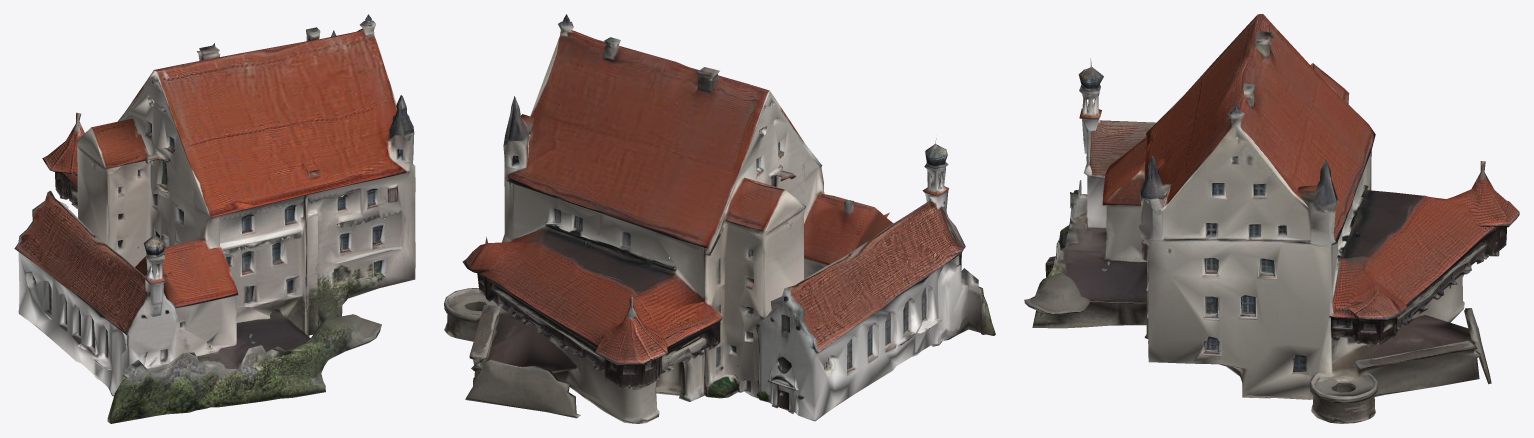
File: fairytale-castle.glb
3 renders of one model, left to right at view 1: azimuth 30°, elevation 25°; view 2: azimuth 150°, elevation 25°; view 3: azimuth 270°, elevation 25°, orthographic. The views are drawn at different scales.
Parts seen in each view (by area): view 1: tripo_node_6df8ebc9-4445-48fb-8ed5-7a68136735d4; view 2: tripo_node_6df8ebc9-4445-48fb-8ed5-7a68136735d4; view 3: tripo_node_6df8ebc9-4445-48fb-8ed5-7a68136735d4.
Part boxes in pixels (bbox=[...]): tripo_node_6df8ebc9-4445-48fb-8ed5-7a68136735d4: bbox=[14, 14, 415, 423]; tripo_node_6df8ebc9-4445-48fb-8ed5-7a68136735d4: bbox=[444, 14, 995, 423]; tripo_node_6df8ebc9-4445-48fb-8ed5-7a68136735d4: bbox=[1024, 14, 1519, 423].
Bounding box in the file's own units: 0.9893 × 0.6641 × 1.
Materials: 1 (1 with a texture image).
